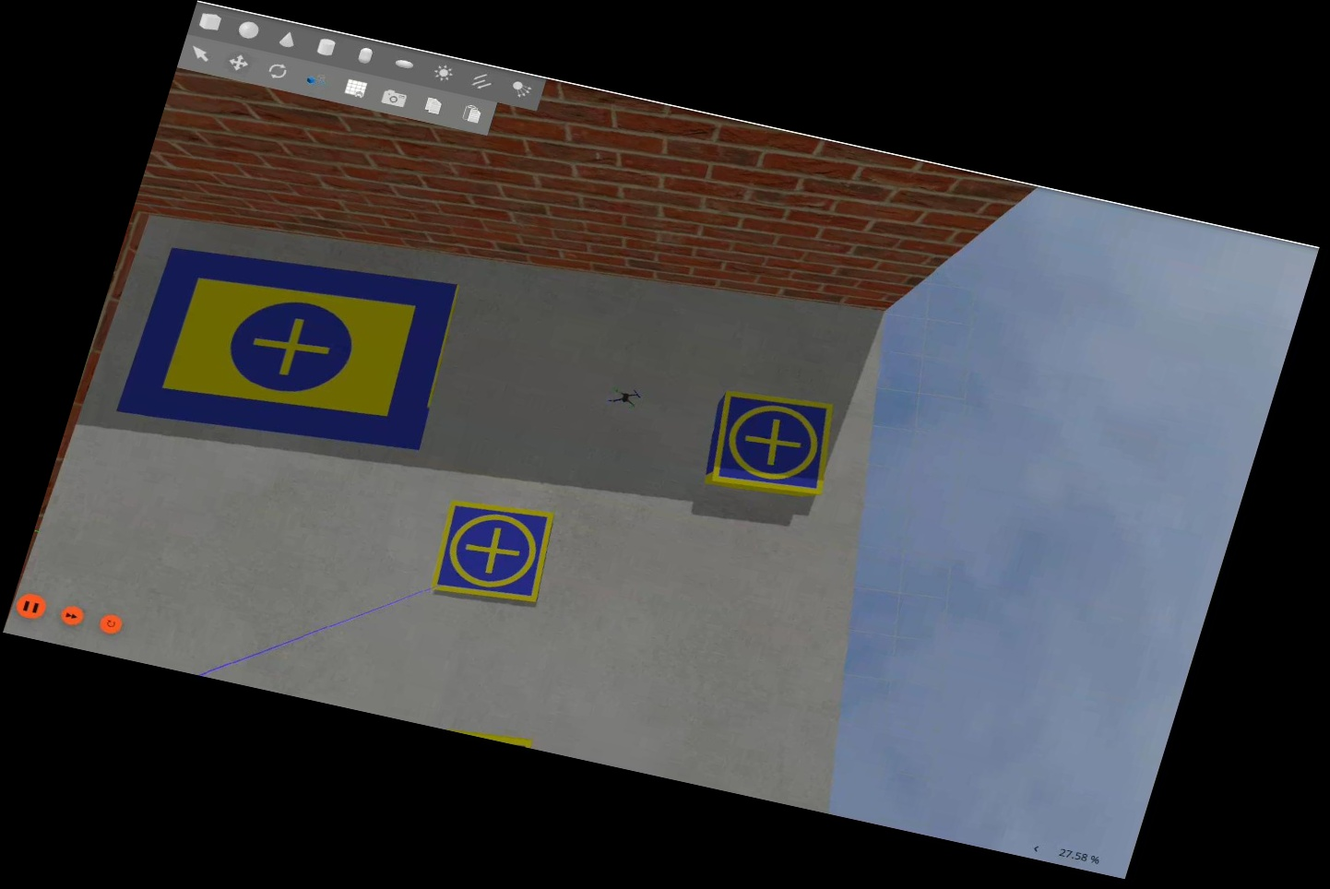large_base: (113, 221, 470, 480)
small_base: (695, 380, 847, 505), (422, 490, 564, 612)
